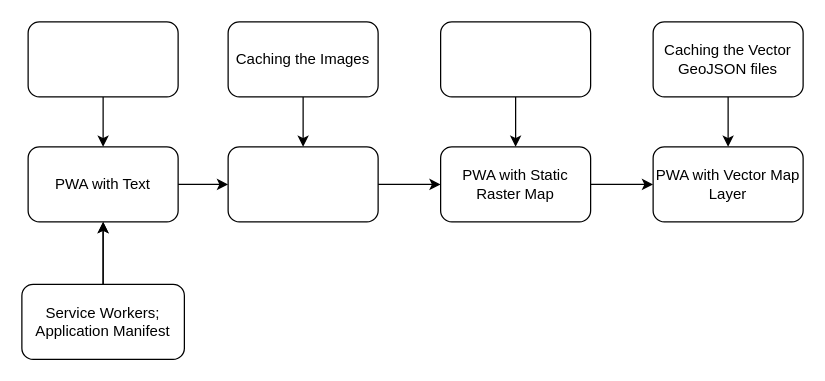
Image size: 825x381. Some labels were removed from this diagram. Here are the shapes that lost their labels. From the top down, the centre of each, then its label:
At [102,59]: "Caching the basic files".
At [515,59]: "Caching the Raster Map Tiles and the files for Leaflet API".
At [302,184]: "PWA with Images".
